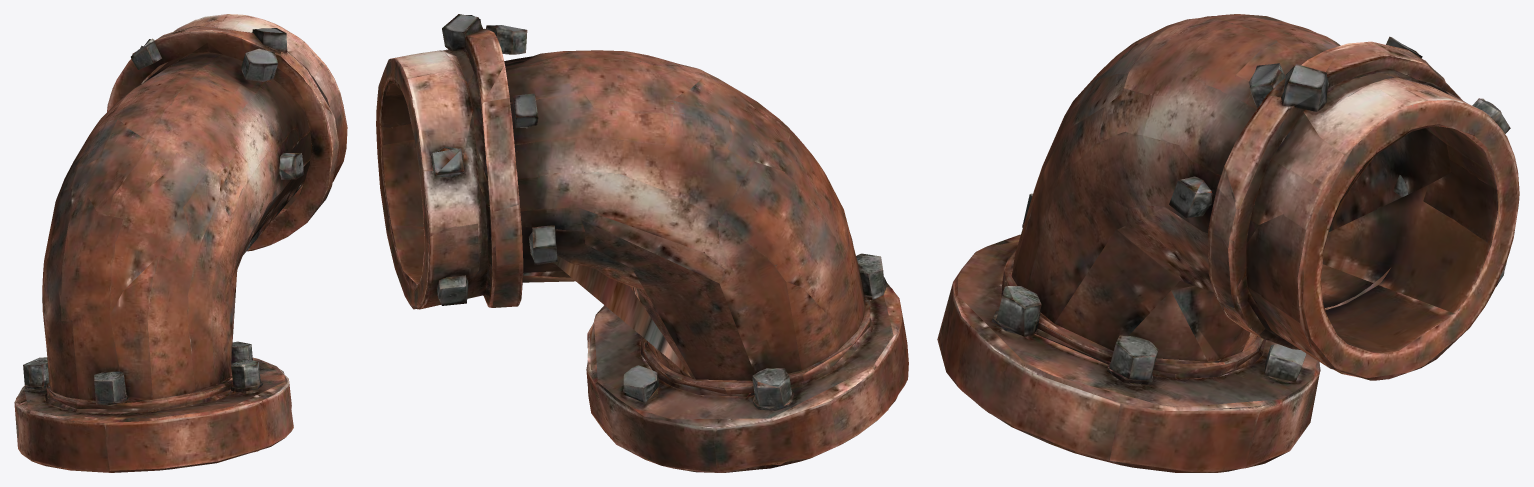
3 views of the same model, side by side, from view 1: azimuth 30°, elevation 25°; view 2: azimuth 150°, elevation 25°; view 3: azimuth 270°, elevation 25° (orthographic). The views are drawn at different scales.
Parts seen in each view (by area): view 1: geometry_0; view 2: geometry_0; view 3: geometry_0.
Part boxes in pixels (bbox=[...]): geometry_0: bbox=[14, 14, 347, 472]; geometry_0: bbox=[376, 14, 908, 472]; geometry_0: bbox=[937, 14, 1519, 472].
Bounding box in the file's own units: 0.9229 × 0.8085 × 0.9096.
Materials: 1 (1 with a texture image).
